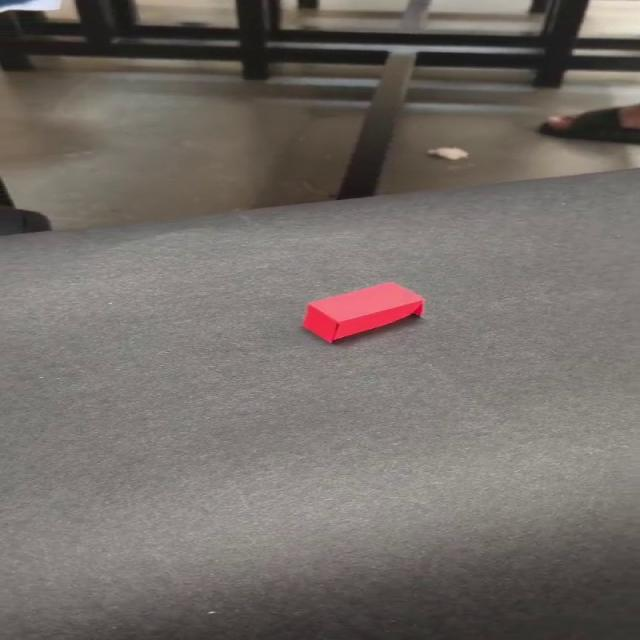red block: (300, 280, 425, 344)
